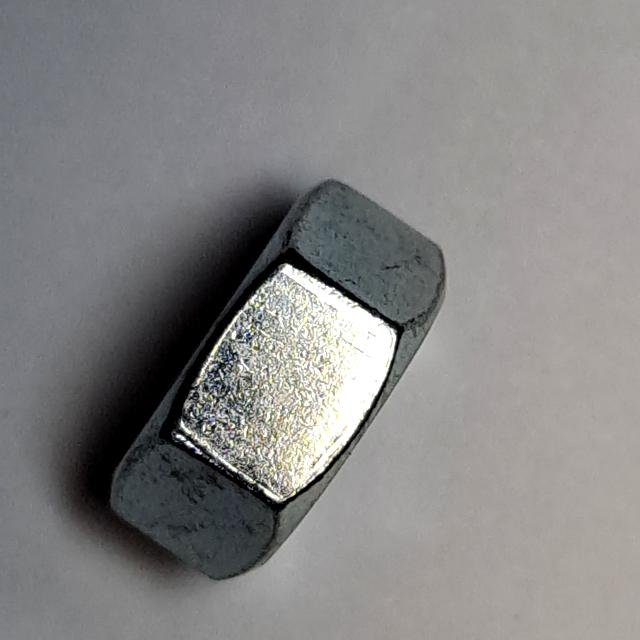Side_Excellent: (94, 158, 480, 606)
